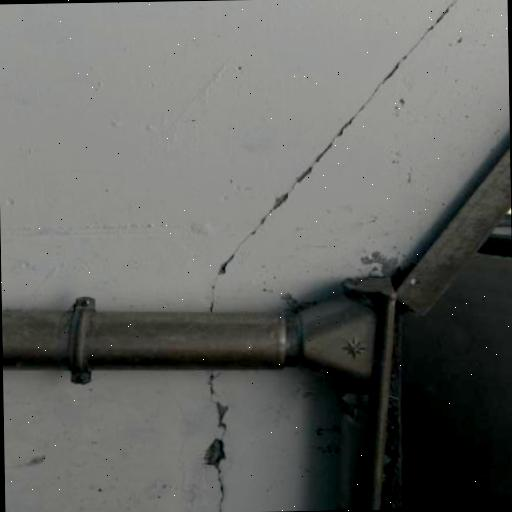spalling: (206, 0, 461, 312), (205, 374, 233, 510)
